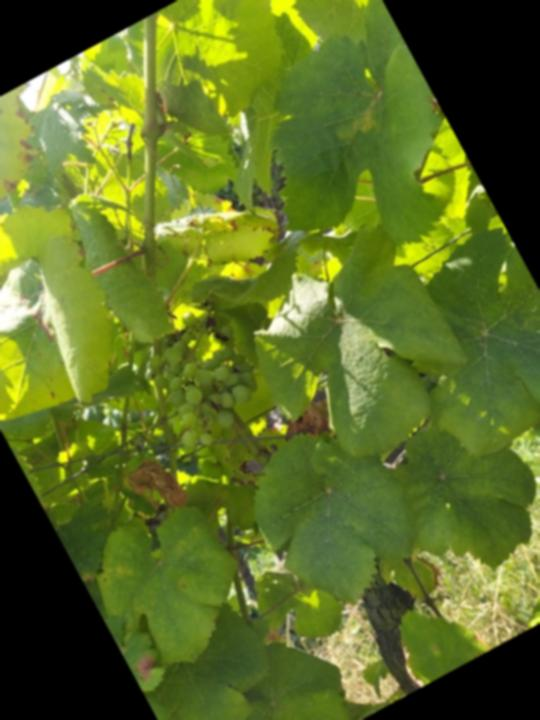grape: (124, 293, 278, 459)
